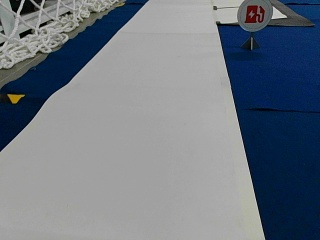battery: (237, 0, 275, 33)
